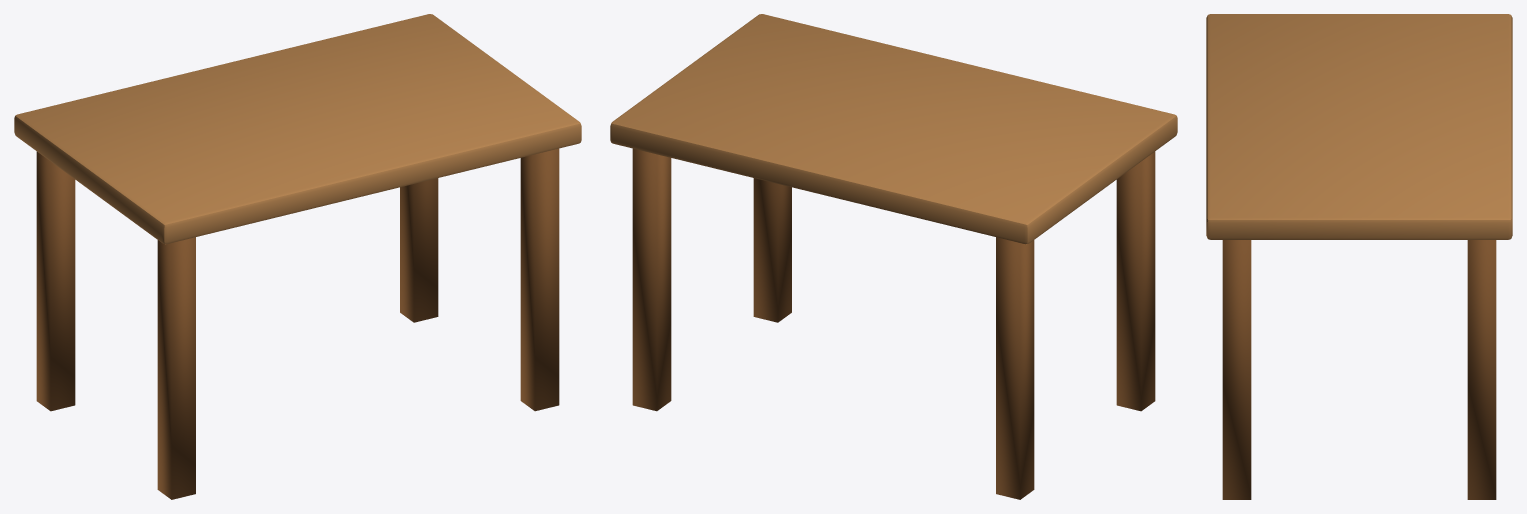
The model's file is table.glb.
3 views of the same model, side by side, from view 1: azimuth 30°, elevation 25°; view 2: azimuth 150°, elevation 25°; view 3: azimuth 270°, elevation 25° (orthographic).
Parts seen in each view (by area): view 1: Table; view 2: Table; view 3: Table.
Boxes of the visible parts, left/top/right/bottom form: Table: left=14, top=14, right=581, bottom=499; Table: left=610, top=14, right=1177, bottom=499; Table: left=1206, top=14, right=1512, bottom=499.
Size of the model in its own units: 1.2 by 0.78 by 0.75.
